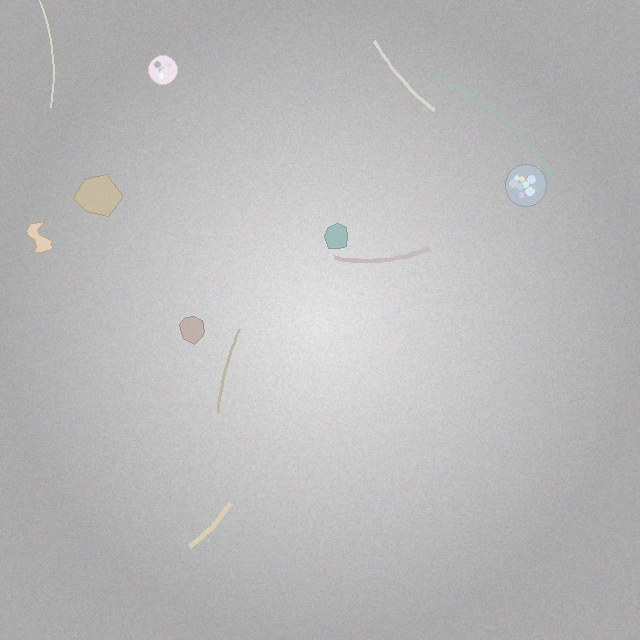fiber: (426, 69, 561, 187), (372, 38, 437, 114), (184, 499, 236, 551), (215, 326, 243, 416), (34, 0, 56, 110), (330, 243, 435, 266)
film: (27, 222, 53, 253)
foam: (505, 165, 547, 206), (148, 55, 178, 84)
fragment: (74, 174, 124, 216), (180, 316, 204, 344), (325, 223, 348, 249)
